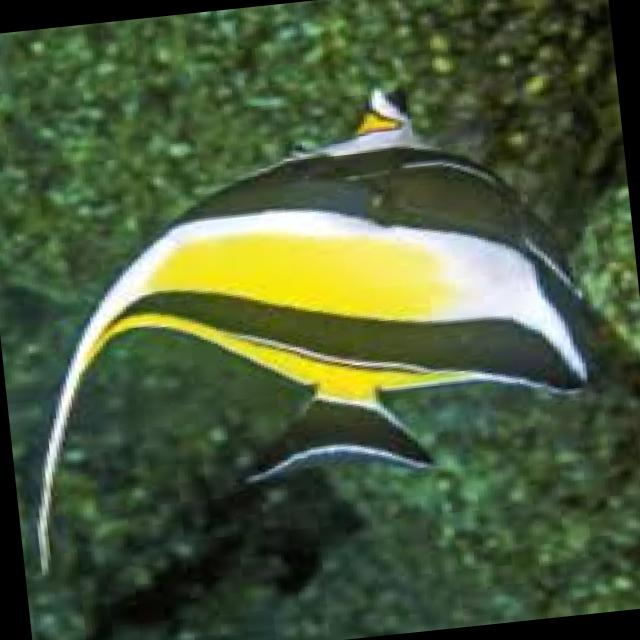MorishIdol: (0, 64, 625, 580)
